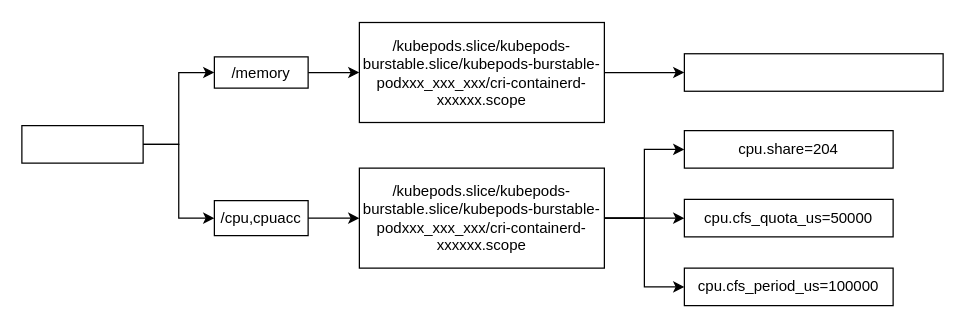
Some shapes in this 965 by 328 pixel diagram are drawn without their labels. Here are the shapes that lost their labels. From the top down, the centre of each, then its label:
At point (813, 71): "memory.limit_in_bytes=536870912".
At point (82, 143): "/sys/fs/cgroup".
